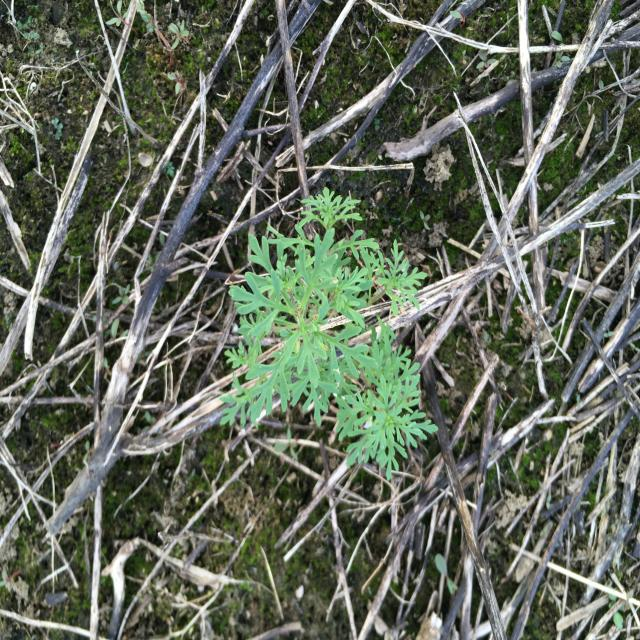Ragweed: (219, 185, 441, 485)
